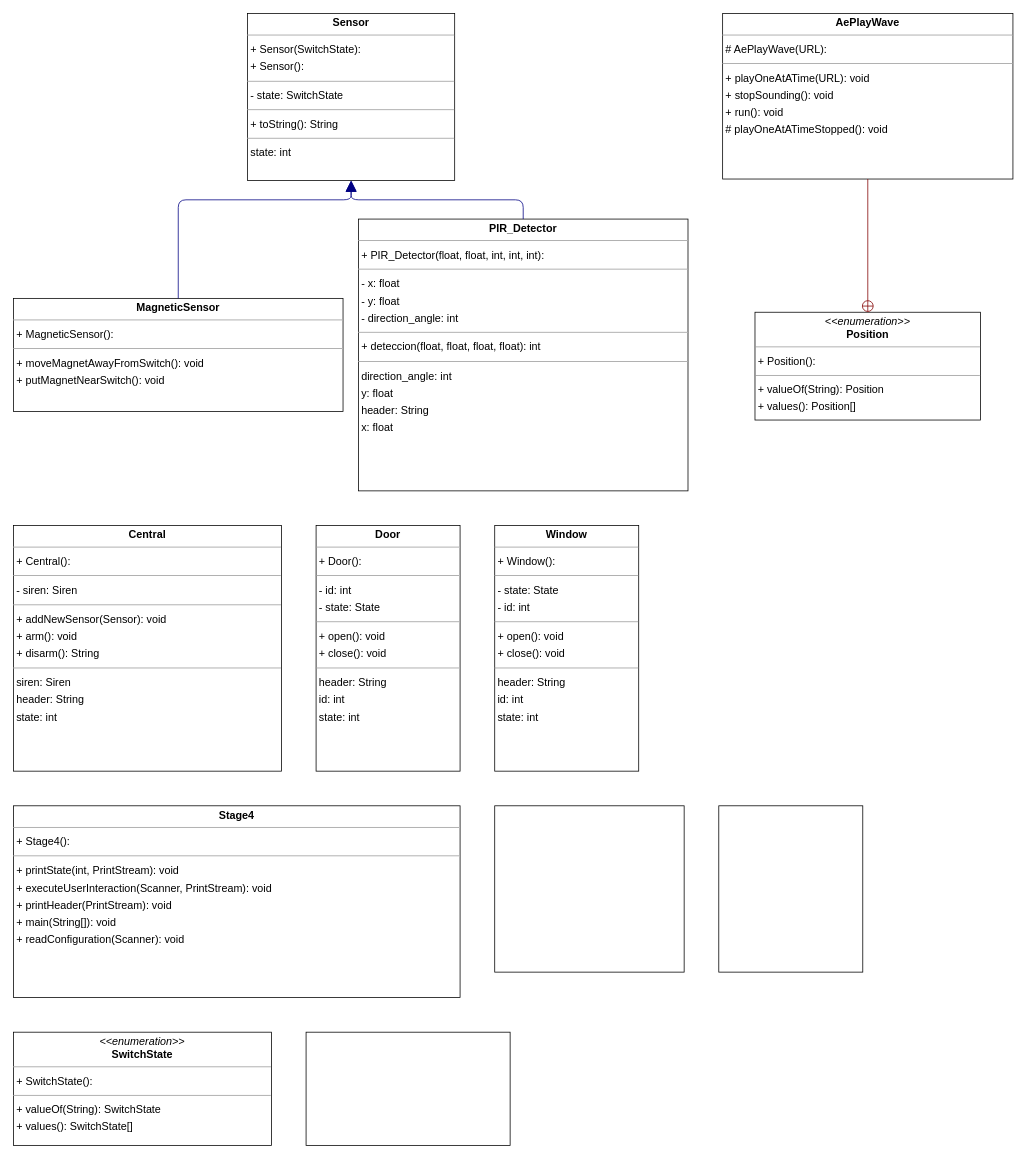
Image size: 1026x1159. Some labels were removed from this diagram. The box of each missing label's shape, as (x1, y1, x2, y2) in pixels:
<<enumeration>> State + State(): + values(): State[] + valueOf(String): State: (305, 1031, 510, 1145)
Person + Person(float, float): - x: float - y: float y: float x: float: (494, 805, 684, 972)
Siren + Siren(String): + play(): void + stop(): void header: String state: int: (718, 805, 863, 972)
